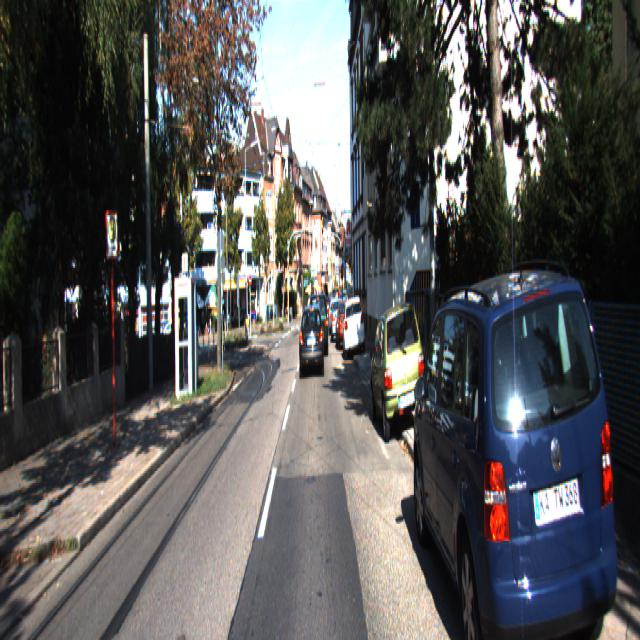Car: (409, 249, 632, 638), (368, 299, 426, 447), (299, 302, 323, 381), (342, 295, 364, 364), (308, 291, 328, 359), (334, 298, 354, 352)
